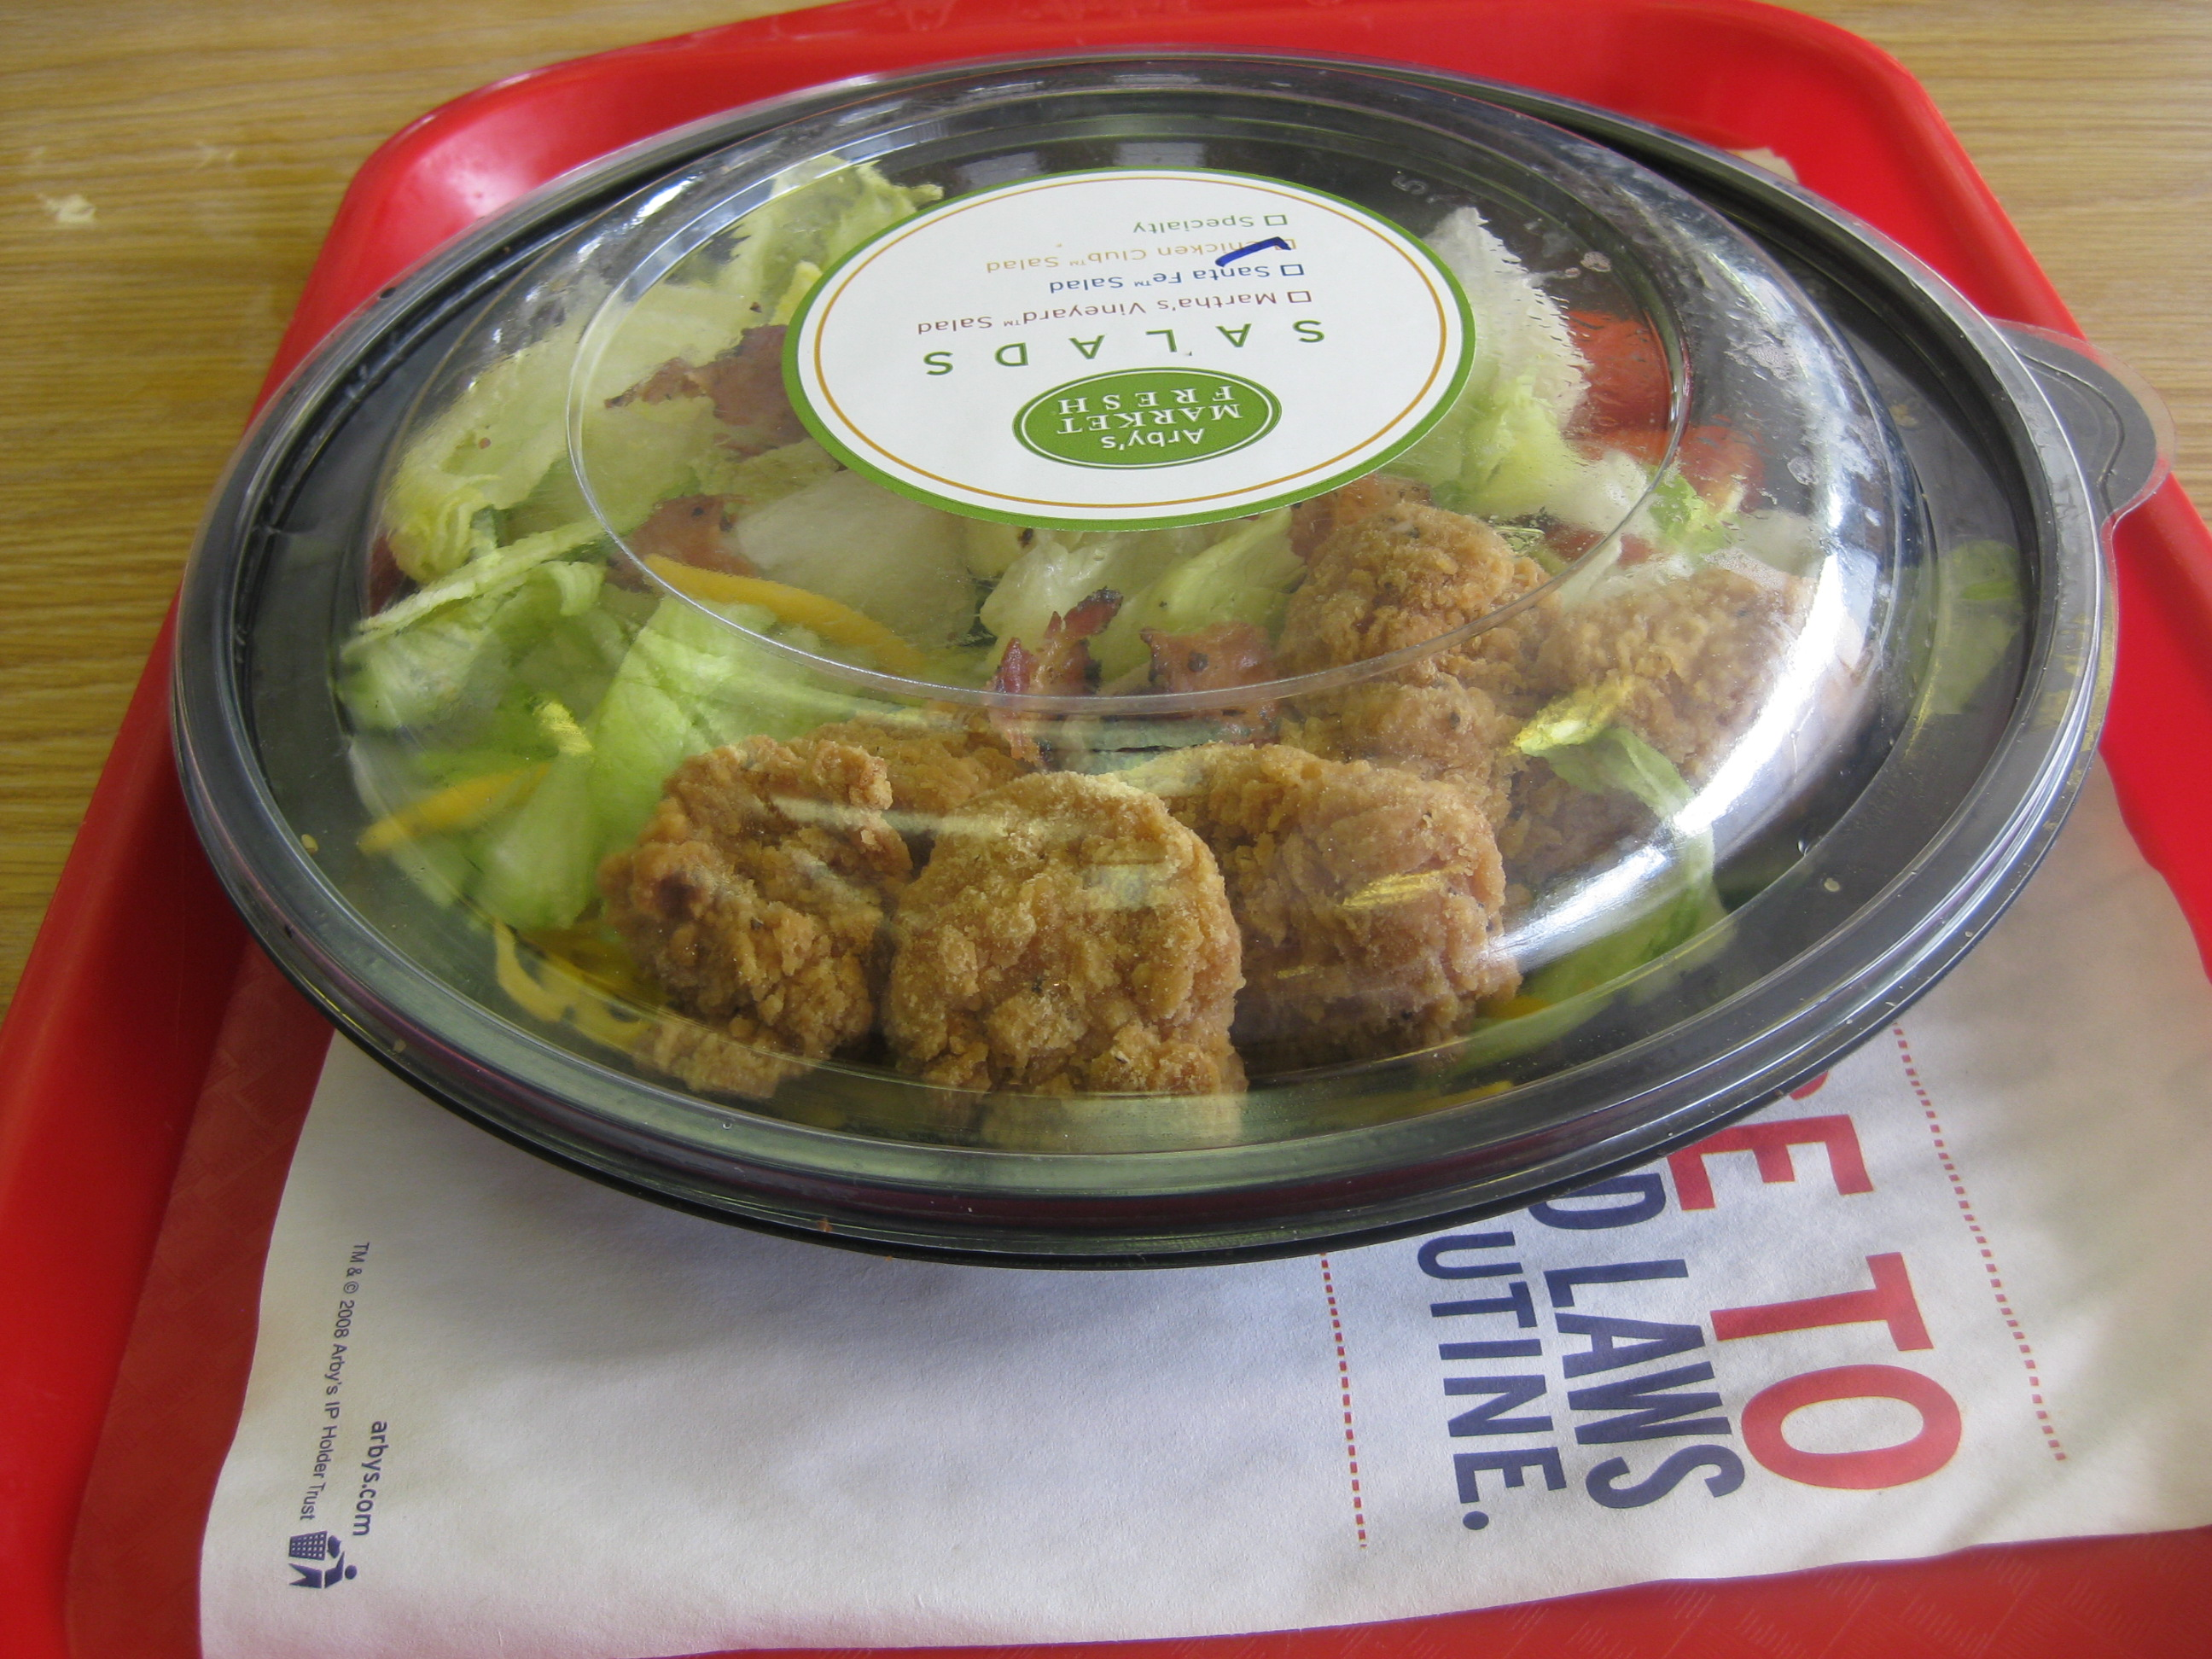salad: (170, 20, 2122, 1228)
